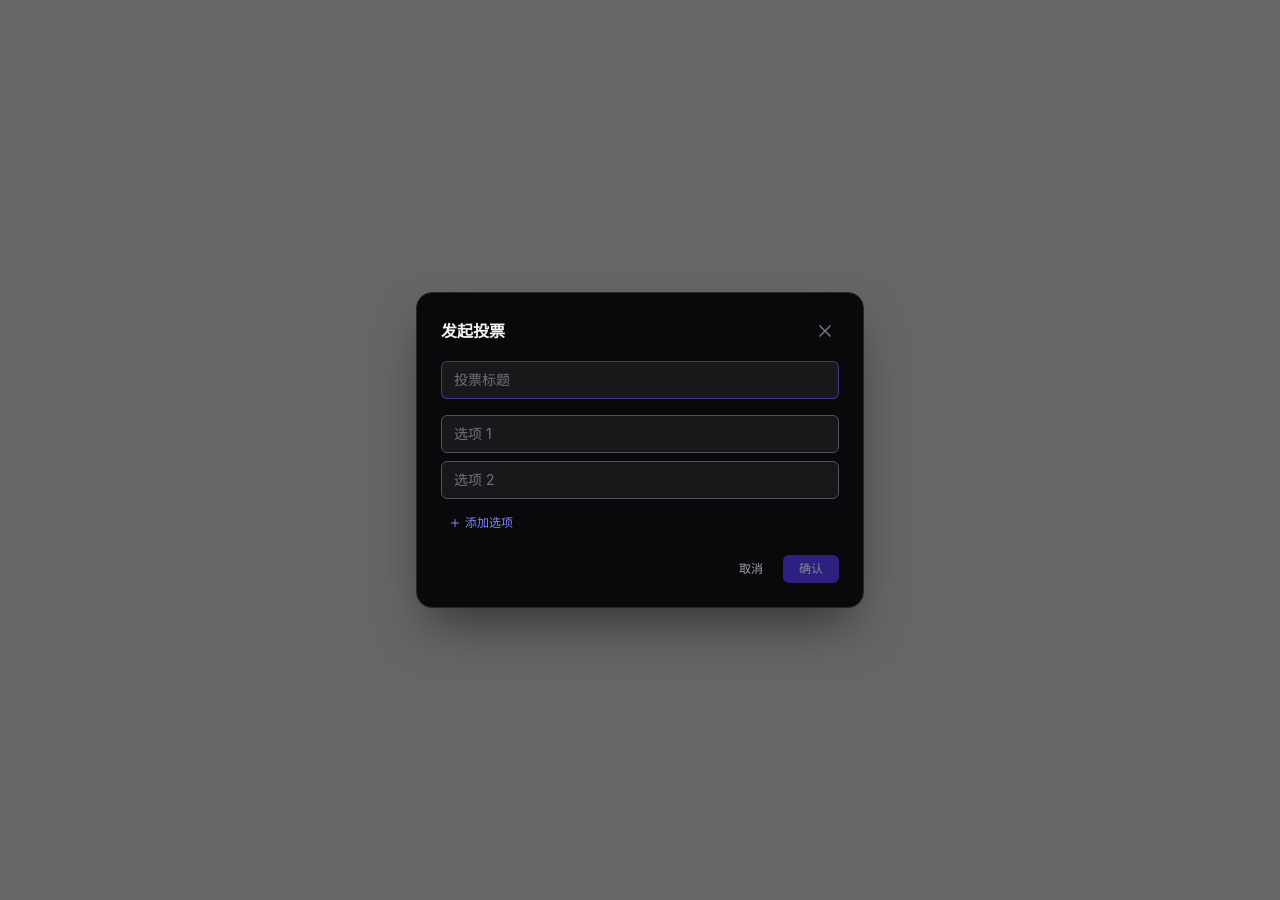
Test: VoteBuilderModal › adds a new empty input when "添加选项" clicked
Click the button "添加选项": (481, 523) [441, 511, 521, 535]
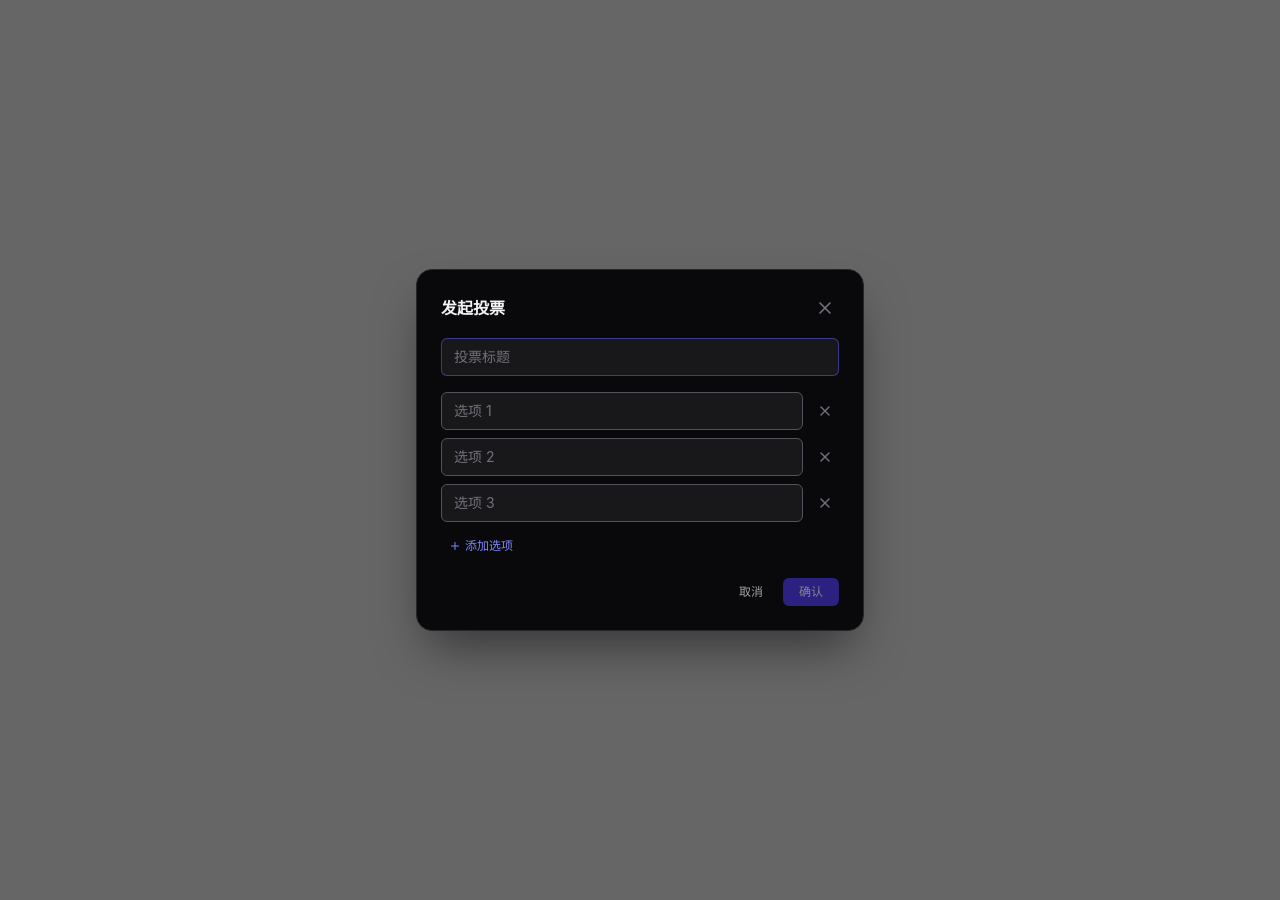
Now the number of fields with placeholder "选项 1" is 3, box [441, 392, 803, 430]; [441, 438, 803, 476]; [441, 484, 803, 522]
